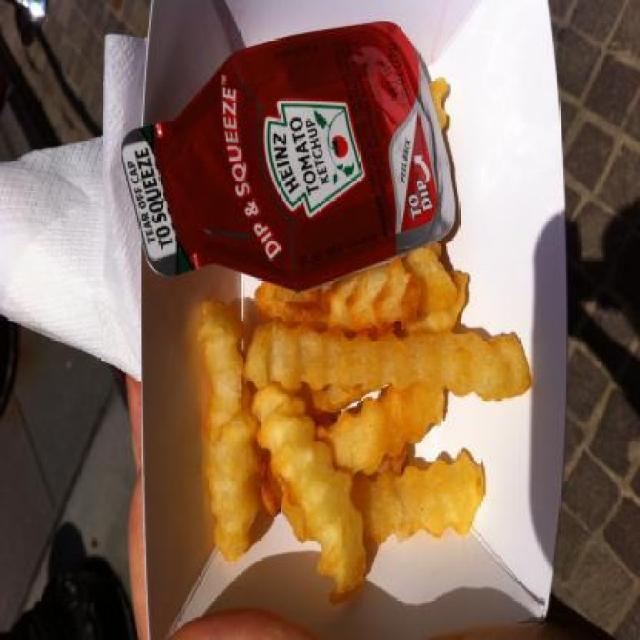French fries: (200, 248, 538, 612)
